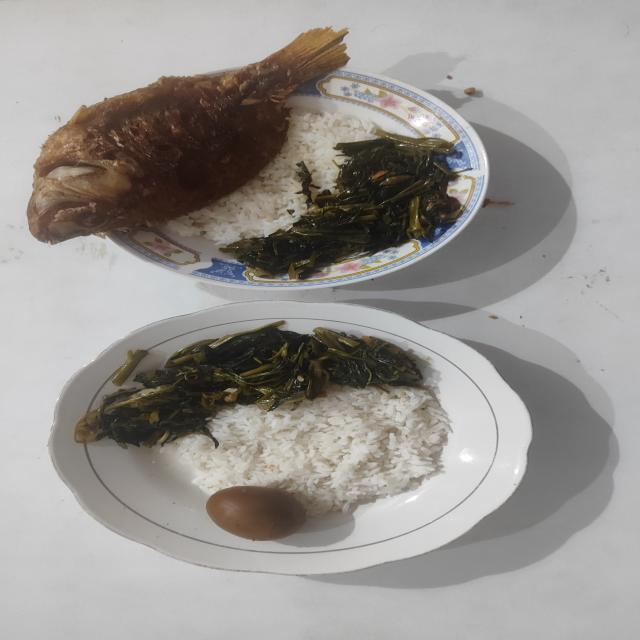ikan_mujair: (27, 28, 350, 244)
nasi_putih: (170, 383, 450, 518), (169, 110, 376, 244)
tumis_kangkung: (75, 322, 423, 448), (220, 129, 465, 282)
